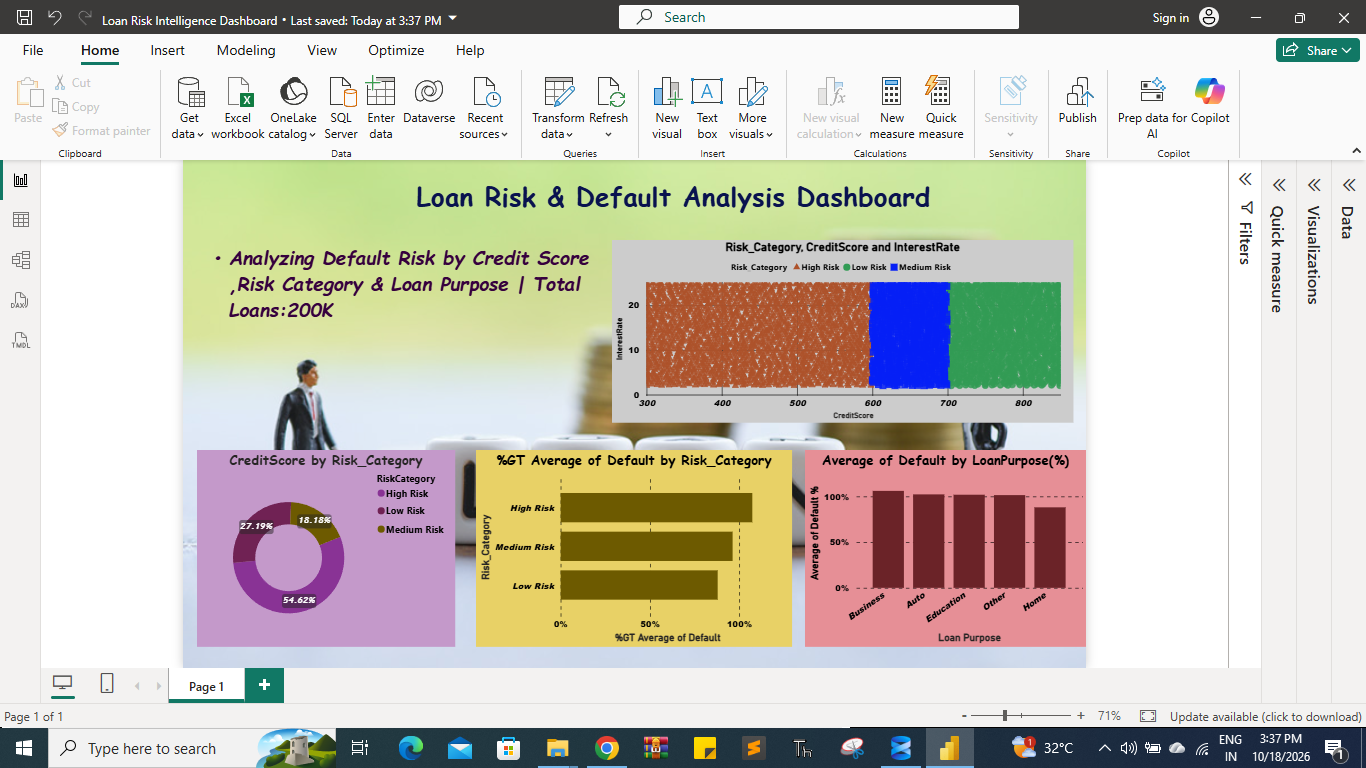

What the dashboard file says about the page in this screenshot:
{"tool":"powerbi","page":{"name":"Page 1","canvas":[1280,720],"ordinal":0},"visuals":[{"type":"donutChart","title":"CreditScore by Risk_Category","fields":{"Category":["Risk_Dashboard.Risk_Category"],"Y":["CountNonNull(Risk_Dashboard.CreditScore)"]},"box":[20.2,410.4,365.8,279.4],"z":0},{"type":"clusteredBarChart","fields":{"Y":["Avg(Risk_Dashboard.Default)"],"Category":["Risk_Dashboard.Risk_Category"]},"box":[414.7,410.4,447.8,279.4],"z":1000},{"type":"clusteredColumnChart","title":"Average of Default by LoanPurpose(%)","fields":{"Category":["Risk_Dashboard.LoanPurpose"],"Y":["Avg(Risk_Dashboard.Default)"]},"box":[881.3,410.4,398.9,279.4],"z":2000},{"type":"scatterChart","fields":{"X":["Risk_Dashboard.CreditScore"],"Y":["Risk_Dashboard.InterestRate"],"Series":["Risk_Dashboard.Risk_Category"]},"box":[607.7,113.8,653.8,259.2],"z":3000},{"type":"textbox","box":[161.6,19.8,1067.2,62.4],"z":4000},{"type":"textbox","box":[19.8,114.8,561.3,129],"z":5000},{"type":"cardVisual","fields":{"Data":["Risk_Dashboard.Measure"]},"box":[0,243.8,189.9,141.7],"z":5001},{"type":"cardVisual","fields":{"Data":["Avg(Risk_Dashboard.Default)"]},"box":[189.9,243.8,195.6,141.7],"z":5002},{"type":"cardVisual","fields":{"Data":["Avg(Risk_Dashboard.CreditScore)"]},"box":[385.5,243.8,222.5,141.7],"z":5003}]}

Visuals, with their boxes on the page's 1280x720 design canvas (x1, y1, x2, y2). These are canvas units, not pixel positions in the 1366x768 screenshot, which may show the page scaled, cropped or inside an application window:
"CreditScore by Risk_Category" donutChart: [x1=20, y1=410, x2=386, y2=690]
clusteredBarChart - Avg(Risk_Dashboard.Default) x Risk_Dashboard.Risk_Category: [x1=415, y1=410, x2=862, y2=690]
"Average of Default by LoanPurpose(%)" clusteredColumnChart: [x1=881, y1=410, x2=1280, y2=690]
scatterChart - Risk_Dashboard.CreditScore x Risk_Dashboard.InterestRate: [x1=608, y1=114, x2=1262, y2=373]
textbox: [x1=162, y1=20, x2=1229, y2=82]
textbox: [x1=20, y1=115, x2=581, y2=244]
cardVisual - Risk_Dashboard.Measure: [x1=0, y1=244, x2=190, y2=386]
cardVisual - Avg(Risk_Dashboard.Default): [x1=190, y1=244, x2=386, y2=386]
cardVisual - Avg(Risk_Dashboard.CreditScore): [x1=386, y1=244, x2=608, y2=386]
